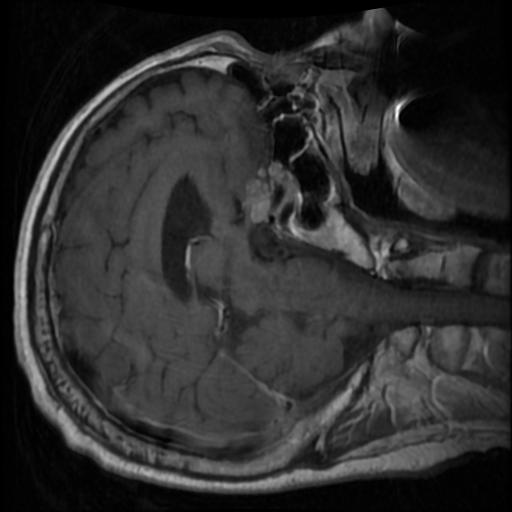pituitary tumour: (247, 165, 299, 228)
